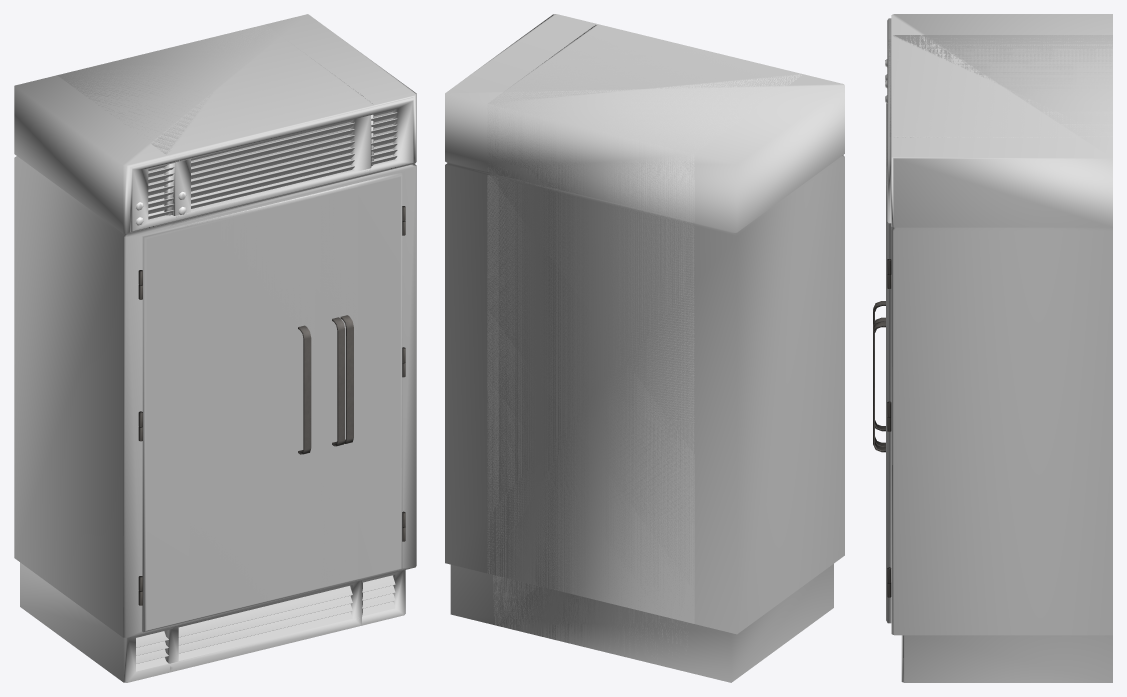
The model's file is gastro_kuehlschraenke.fbx.
3 renders of one model, left to right at view 1: azimuth 30°, elevation 25°; view 2: azimuth 150°, elevation 25°; view 3: azimuth 270°, elevation 25°, orthographic.
Parts seen in each view (by area): view 1: kuehlschrank_01, kuehlschrank_02; view 2: kuehlschrank_01, kuehlschrank_02; view 3: kuehlschrank_01, kuehlschrank_02.
Part boxes in pixels (x1,y1,x2,y2): kuehlschrank_01: [14, 14, 416, 682]; kuehlschrank_02: [57, 24, 373, 672]; kuehlschrank_01: [445, 14, 844, 682]; kuehlschrank_02: [487, 24, 801, 658]; kuehlschrank_01: [873, 14, 1112, 682]; kuehlschrank_02: [873, 35, 1112, 452].
Bounding box in the file's own units: 108 × 184 × 75.67.
